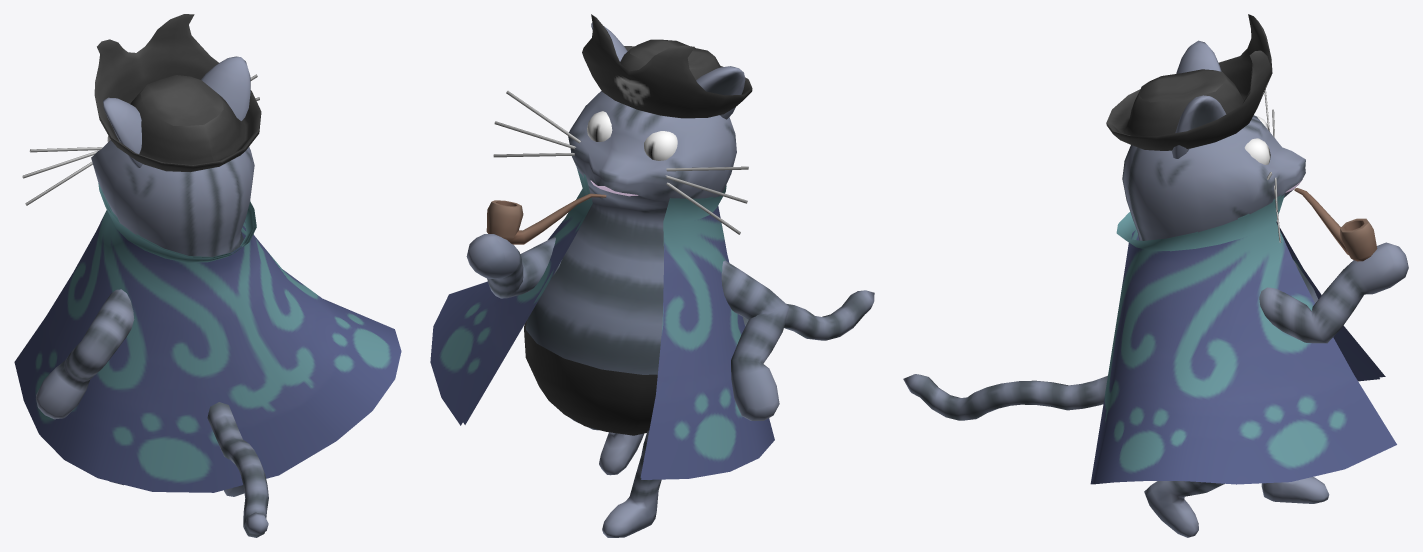
Rendered from neko_walk_a_02.fbx.
The picture shows the model from 3 angles, left to right: view 1: azimuth 30°, elevation 25°; view 2: azimuth 150°, elevation 25°; view 3: azimuth 270°, elevation 25°; orthographic projection. The views are drawn at different scales.
Parts seen in each view (by area): view 1: W_a_02; view 2: W_a_02; view 3: W_a_02.
Boxes of the visible parts, left/top/right/bottom form: W_a_02: left=14, top=14, right=401, bottom=537; W_a_02: left=430, top=14, right=874, bottom=537; W_a_02: left=903, top=14, right=1408, bottom=537.
Size of the model in its own units: 1.43 by 1.9 by 1.82.
Materials: 1 (1 with a texture image).
